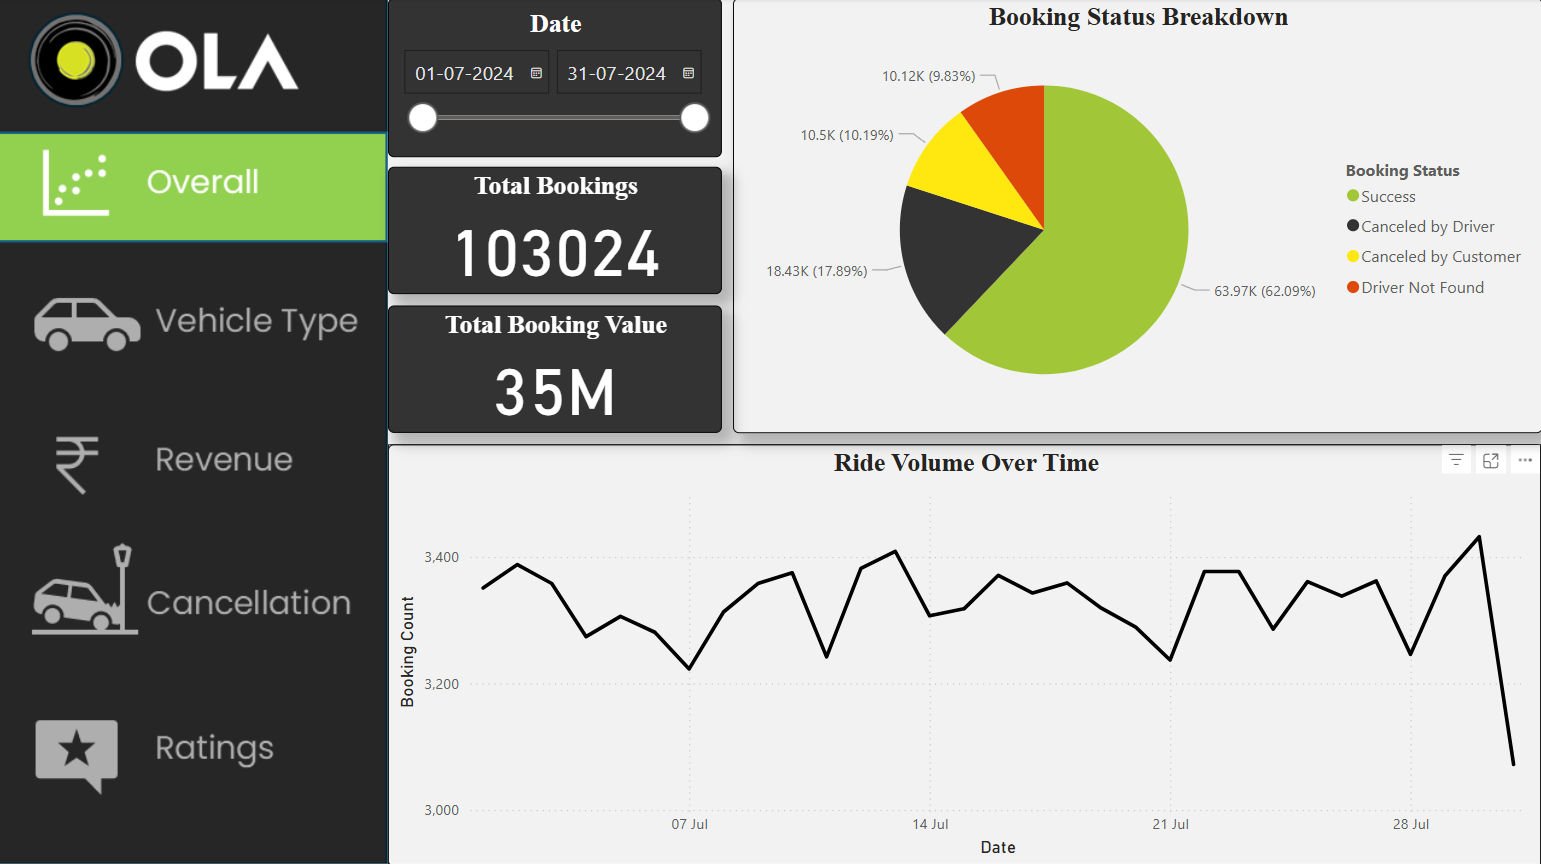

The page's visual inventory and layout, read from the dashboard file:
{"tool":"powerbi","page":{"name":"Overall","canvas":[1280,720],"ordinal":0},"visuals":[{"type":"actionButton","box":[0,223.4,323.3,90.7],"z":0},{"type":"actionButton","box":[0,336.9,323.3,90.7],"z":1000},{"type":"actionButton","box":[0,445.7,323.3,90.7],"z":2000},{"type":"actionButton","box":[0,579.6,323.3,90.7],"z":3000},{"type":"lineChart","title":"Ride Volume Over Time","fields":{"Y":["CountNonNull(July.Booking_ID)"],"Category":["July.Date"]},"box":[322.9,370,957.1,350],"z":4000},{"type":"pieChart","title":" Booking Status Breakdown","fields":{"Category":["July.Booking_Status"],"Y":["CountNonNull(July.Booking_Status)"]},"box":[609.3,0,670.9,360.5],"z":5000},{"type":"slicer","title":"Date","fields":{"Values":["July.Date"]},"box":[323.3,0,276.7,131.6],"z":6000},{"type":"card","title":"Total Bookings","fields":{"Values":["CountNonNull(July.Booking_ID)"]},"box":[323.3,139.5,276.7,105.8],"z":7000},{"type":"card","title":"Total Booking Value","fields":{"Values":["Sum(July.Booking_Value)"]},"box":[323.3,254.7,276.7,105.8],"z":8000}]}

Visuals, with their boxes in screenshot pixels (x1, y1, x2, y2), scaled from the page's 1280x720 canvas onto the 1541x864 screenshot:
actionButton: 0:268:389:377
actionButton: 0:404:389:513
actionButton: 0:535:389:644
actionButton: 0:696:389:804
"Ride Volume Over Time" lineChart: 389:444:1540:863
" Booking Status Breakdown" pieChart: 734:0:1540:433
"Date" slicer: 389:0:722:158
"Total Bookings" card: 389:167:722:294
"Total Booking Value" card: 389:306:722:433
